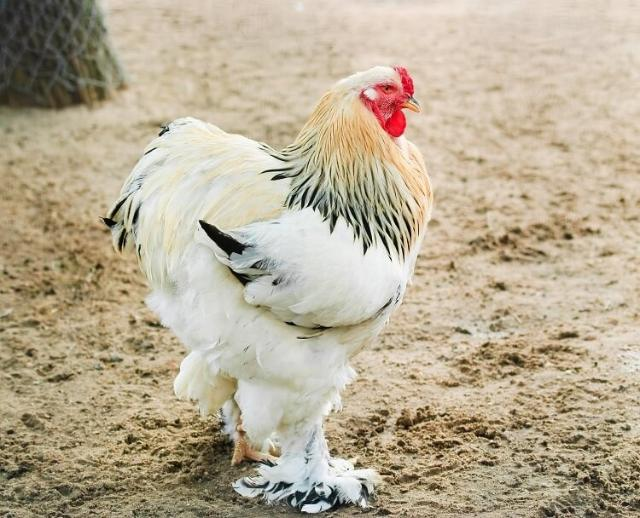Chicken: (107, 65, 435, 504)
